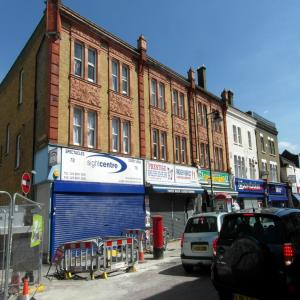Vehicle-registration-plate: (194, 247, 208, 252)
